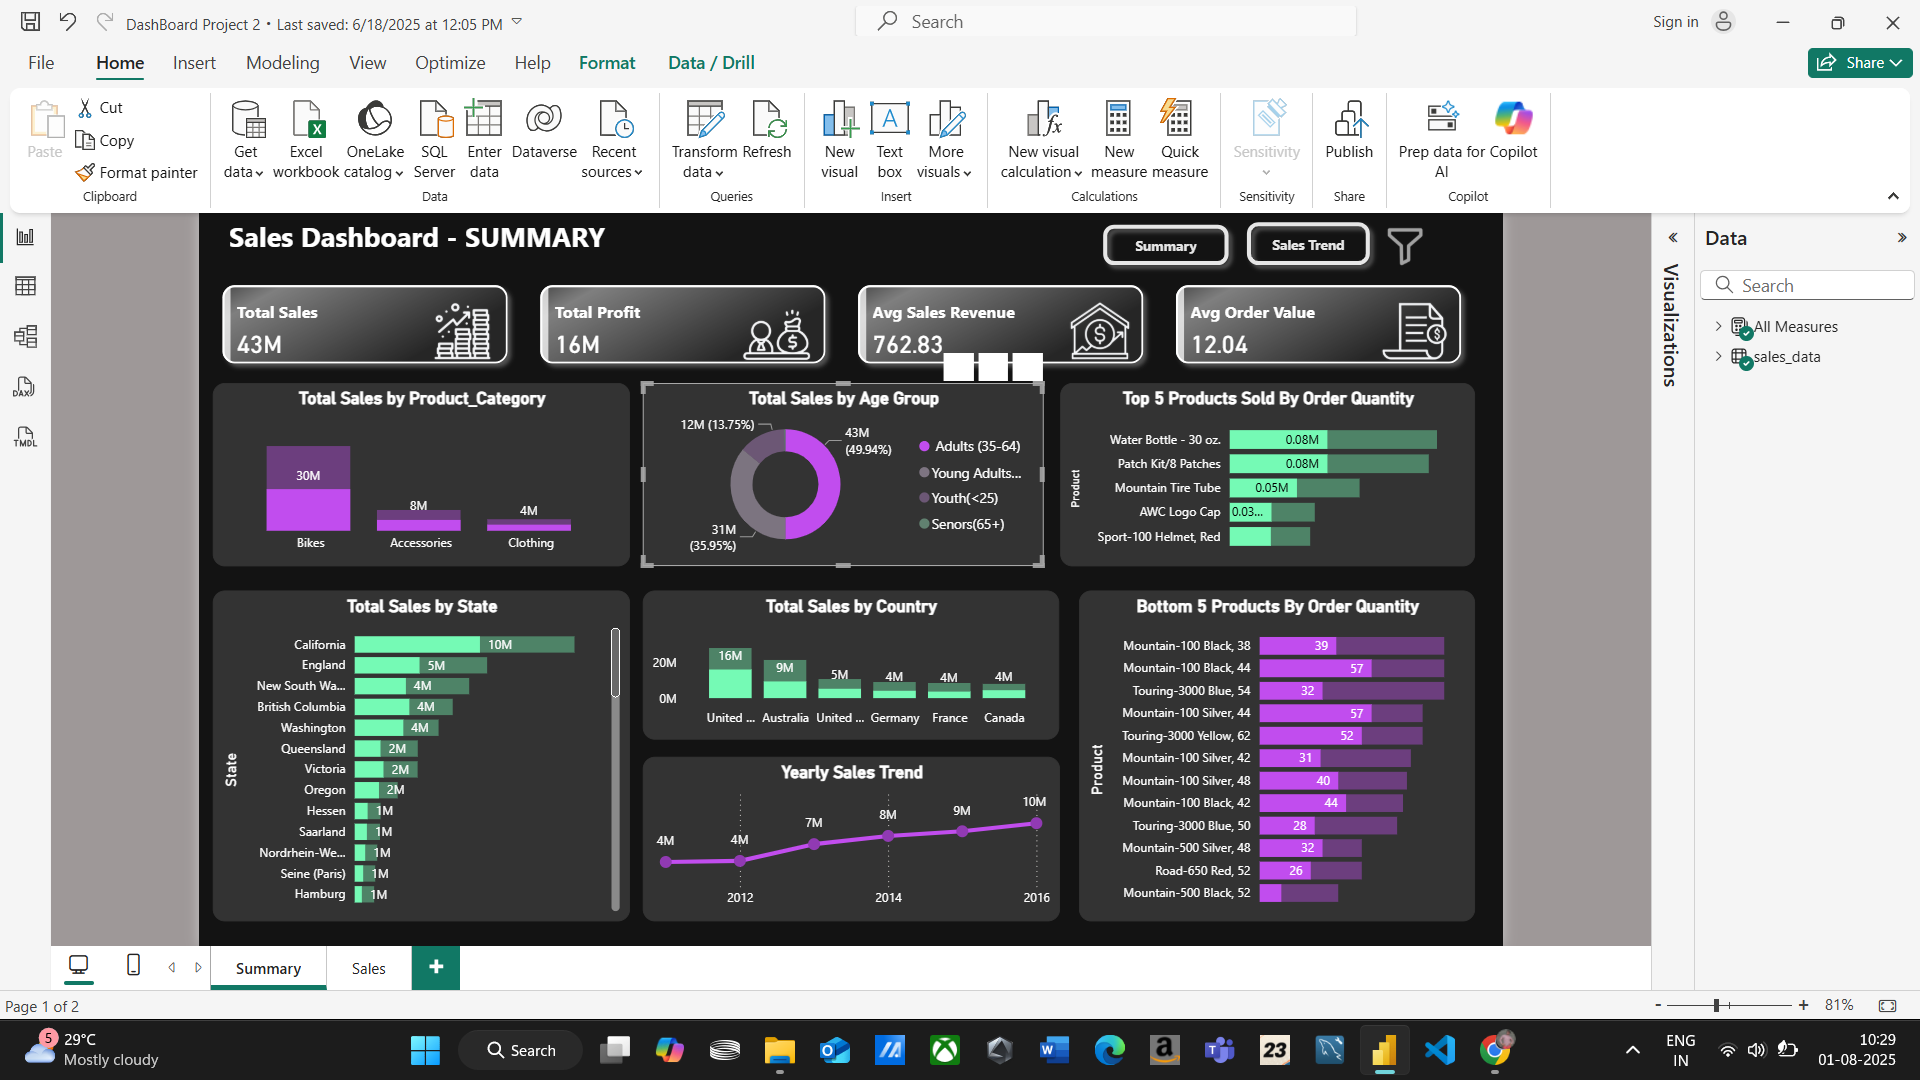

Layout of this report page (visuals, bound fields, positions):
{"tool":"powerbi","page":{"name":"Summary","canvas":[1280,720],"ordinal":0},"visuals":[{"type":"cardVisual","fields":{"Data":["All Measures.Total Sales","All Measures.Total Profit","All Measures.Avg Sales Revenue","All Measures.Avg Order Value"]},"box":[5.6,54.3,1253.6,111.3],"z":0},{"type":"columnChart","title":"Total Sales by Product_Category","fields":{"Y":["All Measures.Total Sales"],"Category":["sales_data.Product_Category"]},"box":[13.5,166.9,409.8,180.4],"z":1000},{"type":"lineChart","title":"Yearly Sales Trend","fields":{"Category":["sales_data.Year"],"Y":["All Measures.Total Sales"]},"box":[435.6,533.7,409.8,162],"z":2000},{"type":"barChart","title":"Top 5 Products Sold By Order Quantity","fields":{"Category":["sales_data.Product"],"Y":["Sum(sales_data.Order_Quantity)"]},"box":[845.4,166.9,407.4,180.4],"z":3000},{"type":"donutChart","title":"Total Sales by Age Group","fields":{"Y":["All Measures.Total Sales"],"Category":["sales_data.Age Group"]},"box":[435.6,166.9,393.9,180.4],"z":4000},{"type":"clusteredBarChart","title":"Total Sales by State","fields":{"Category":["sales_data.State"],"Y":["All Measures.Total Sales"]},"box":[13.5,370.6,409.8,325.2],"z":5000},{"type":"barChart","title":"Bottom 5 Products By Order Quantity","fields":{"Category":["sales_data.Product"],"Y":["Sum(sales_data.Order_Quantity)"]},"box":[863.8,370.6,389,325.2],"z":6000},{"type":"columnChart","title":"Total Sales by Country","fields":{"Y":["All Measures.Total Sales"],"Category":["sales_data.Country"]},"box":[435.6,370.6,408.6,146],"z":7000},{"type":"textbox","box":[24.5,0,411,54],"z":8000},{"type":"actionButton","box":[878.5,2.5,141.1,57.7],"z":9000},{"type":"actionButton","box":[1019.6,0,138.7,60.1],"z":10000},{"type":"image","box":[1158.3,8.6,51.5,47.9],"z":12000}]}

Visuals, with their boxes on the page's 1280x720 design canvas (x1, y1, x2, y2). These are canvas units, not pixel positions in the 1920x1080 screenshot, which may show the page scaled, cropped or inside an application window:
cardVisual - All Measures.Total Sales x All Measures.Total Profit: <box>6,54,1259,166</box>
"Total Sales by Product_Category" columnChart: <box>14,167,423,347</box>
"Yearly Sales Trend" lineChart: <box>436,534,845,696</box>
"Top 5 Products Sold By Order Quantity" barChart: <box>845,167,1253,347</box>
"Total Sales by Age Group" donutChart: <box>436,167,830,347</box>
"Total Sales by State" clusteredBarChart: <box>14,371,423,696</box>
"Bottom 5 Products By Order Quantity" barChart: <box>864,371,1253,696</box>
"Total Sales by Country" columnChart: <box>436,371,844,517</box>
textbox: <box>24,0,436,54</box>
actionButton: <box>878,2,1020,60</box>
actionButton: <box>1020,0,1158,60</box>
image: <box>1158,9,1210,56</box>
